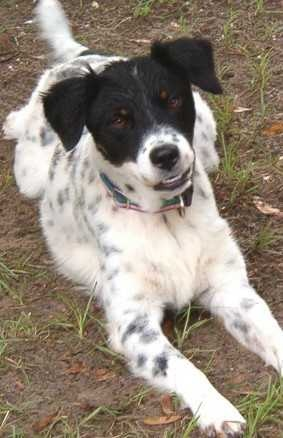Dog: (3, 0, 276, 406)
